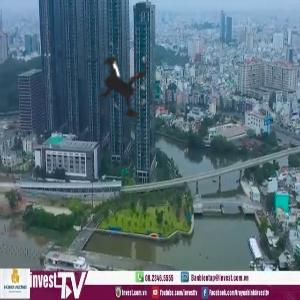drone: (62, 23, 191, 152)
